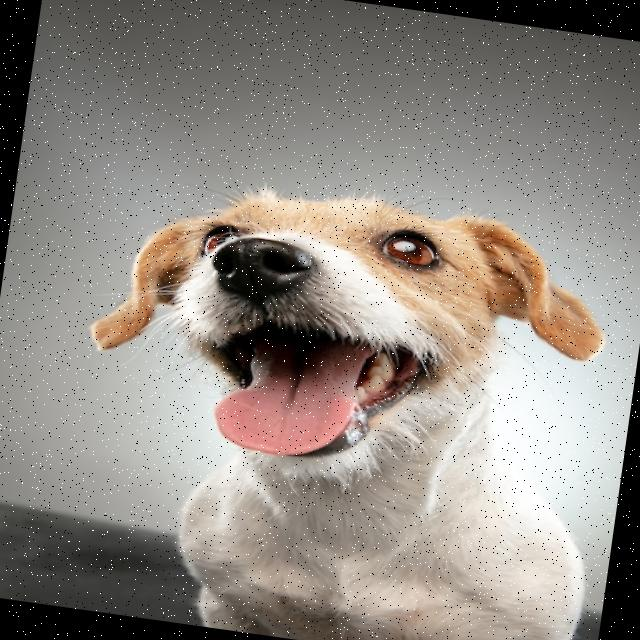Dog: (53, 165, 640, 640)
